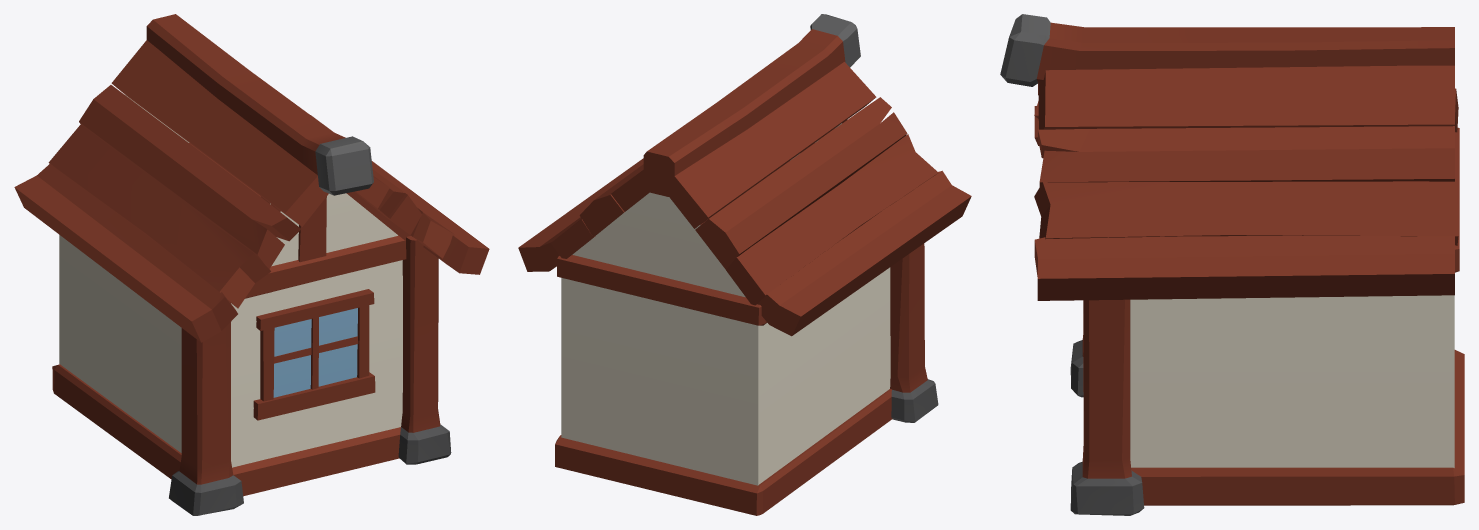
The model's file is House_1Floor_Side_A.fbx.
The picture shows the model from 3 angles, left to right: view 1: azimuth 30°, elevation 25°; view 2: azimuth 150°, elevation 25°; view 3: azimuth 270°, elevation 25°; orthographic projection. The views are drawn at different scales.
Visible parts, largest first — view 1: House_1Floor_Side_A; view 2: House_1Floor_Side_A; view 3: House_1Floor_Side_A.
Part boxes in pixels (x1,y1,x2,y2): House_1Floor_Side_A: [14, 14, 489, 515]; House_1Floor_Side_A: [518, 14, 971, 515]; House_1Floor_Side_A: [1000, 14, 1464, 515].
Size of the model in its own units: 249 by 288 by 287.
